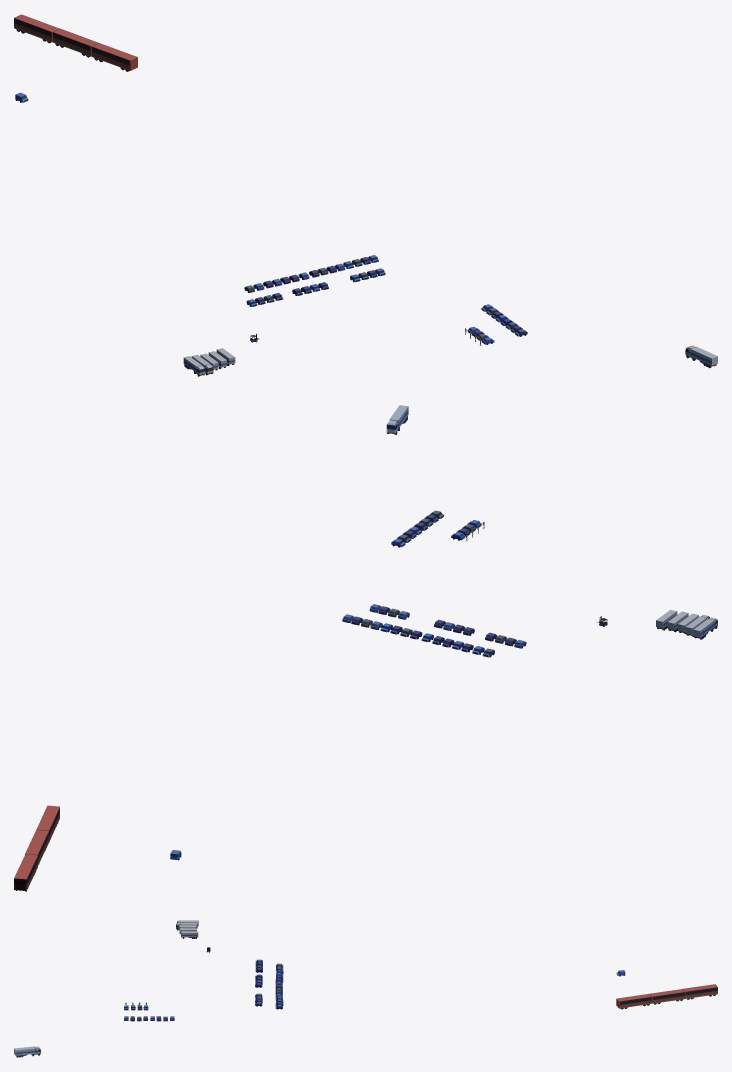
The model's file is carpark.glb.
3 renders of one model, top to bottom at view 1: azimuth 30°, elevation 25°; view 2: azimuth 150°, elevation 25°; view 3: azimuth 270°, elevation 25°, orthographic. The views are drawn at different scales.
Parts seen in each view (by area): view 1: Zug_Waggon.004, Auto.045, LKW.009; view 2: Zug_Waggon.004, Auto.045, LKW.009; view 3: Zug_Waggon.004, LKW.009, Auto.045, LKW.011.
Boxes of the visible parts, x1,y1,x2,y2 form: Zug_Waggon.004: (14, 14, 137, 71); Auto.045: (244, 255, 378, 292); LKW.009: (183, 348, 235, 376); Zug_Waggon.004: (14, 805, 59, 891); Auto.045: (342, 614, 494, 657); LKW.009: (656, 609, 717, 639); Zug_Waggon.004: (616, 984, 717, 1009); LKW.009: (176, 920, 198, 938); Auto.045: (275, 963, 283, 1009); LKW.011: (14, 1046, 41, 1057).
Bounding box in the file's own units: 120 × 5.13 × 270.
Materials: 2 (2 with a texture image).
